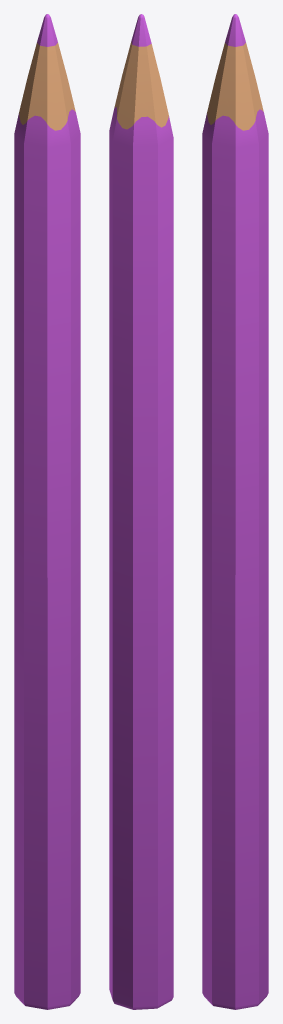
File: pencil_3.glb
3 views of the same model, side by side, from view 1: azimuth 90°, elevation 25°; view 2: azimuth 210°, elevation 25°; view 3: azimuth 270°, elevation 25° (orthographic).
Parts seen in each view (by area): view 1: Cylinder.037; view 2: Cylinder.037; view 3: Cylinder.037.
Part boxes in pixels (<box>): Cylinder.037: <box>14,14,80,1009</box>; Cylinder.037: <box>109,14,173,1009</box>; Cylinder.037: <box>202,14,268,1009</box>.
Size of the model in its own units: 0.00842 by 0.1376 by 0.00842.
1 material, 1 textured.
